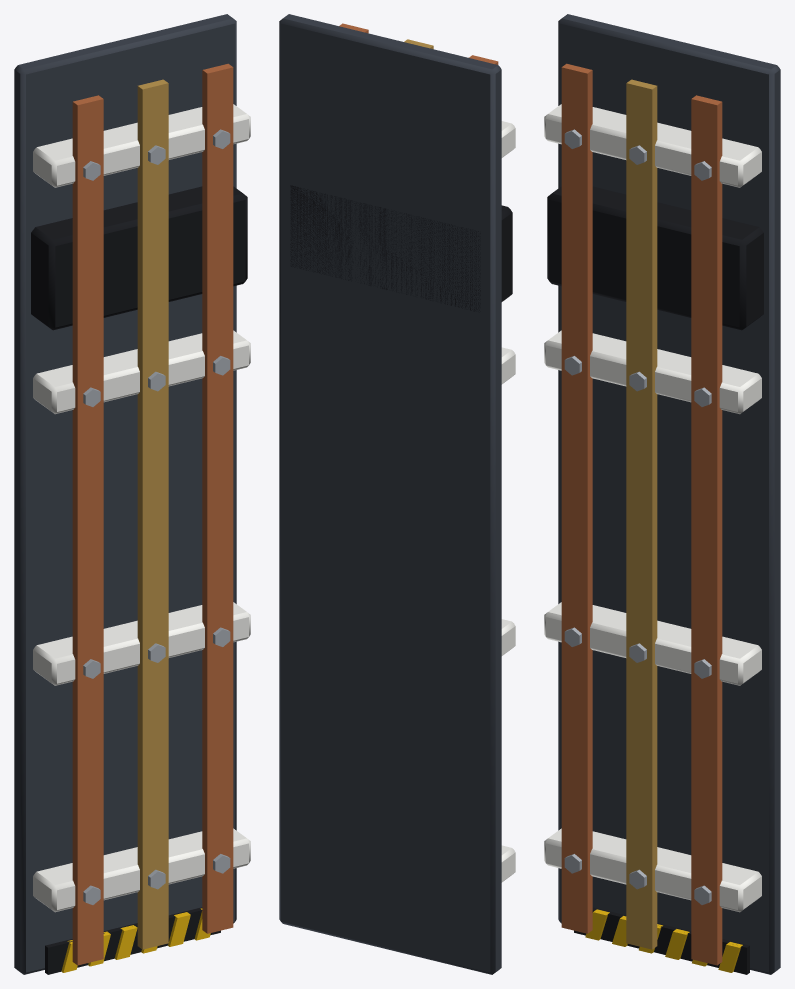
Rendered from junction_bus_bar_riser.glb.
3 views of the same model, side by side, from view 1: azimuth 30°, elevation 25°; view 2: azimuth 150°, elevation 25°; view 3: azimuth 330°, elevation 25° (orthographic).
Visible parts, largest first — view 1: junction_bus_bar_riser; view 2: junction_bus_bar_riser; view 3: junction_bus_bar_riser.
Boxes of the visible parts, left/top/right/bottom form: junction_bus_bar_riser: left=14, top=14, right=250, bottom=974; junction_bus_bar_riser: left=279, top=14, right=515, bottom=974; junction_bus_bar_riser: left=544, top=14, right=780, bottom=974.
Bounding box in the file's own units: 0.5 × 2 × 0.15.
